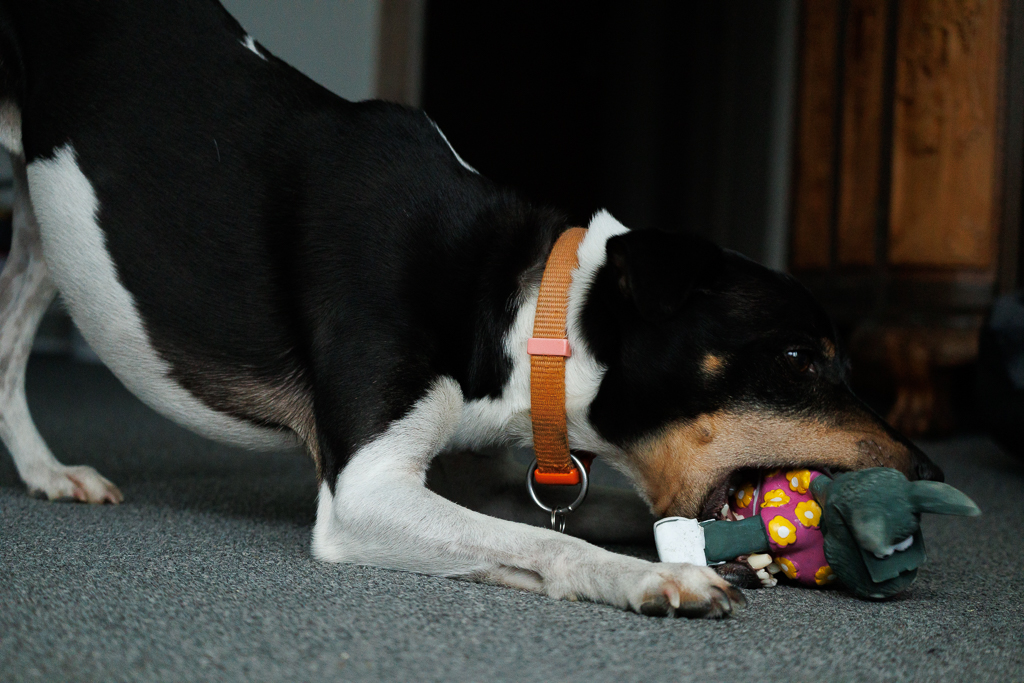Dog: (0, 0, 961, 628)
Humanoid: (628, 446, 1002, 622)
